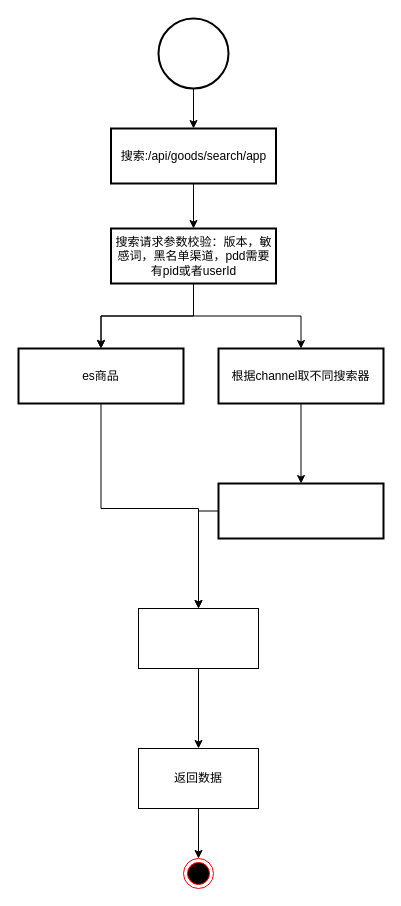
The diagram is 401 pixels wide and 906 high, and some of its shapes have lost their labels. The shapes that lost their labels are listed below. From the top down, each one's centre as x and y in pixels, then its label:
At (x=300, y=510): "根据关键字搜索商品".
At (x=198, y=638): "分页聚合".
